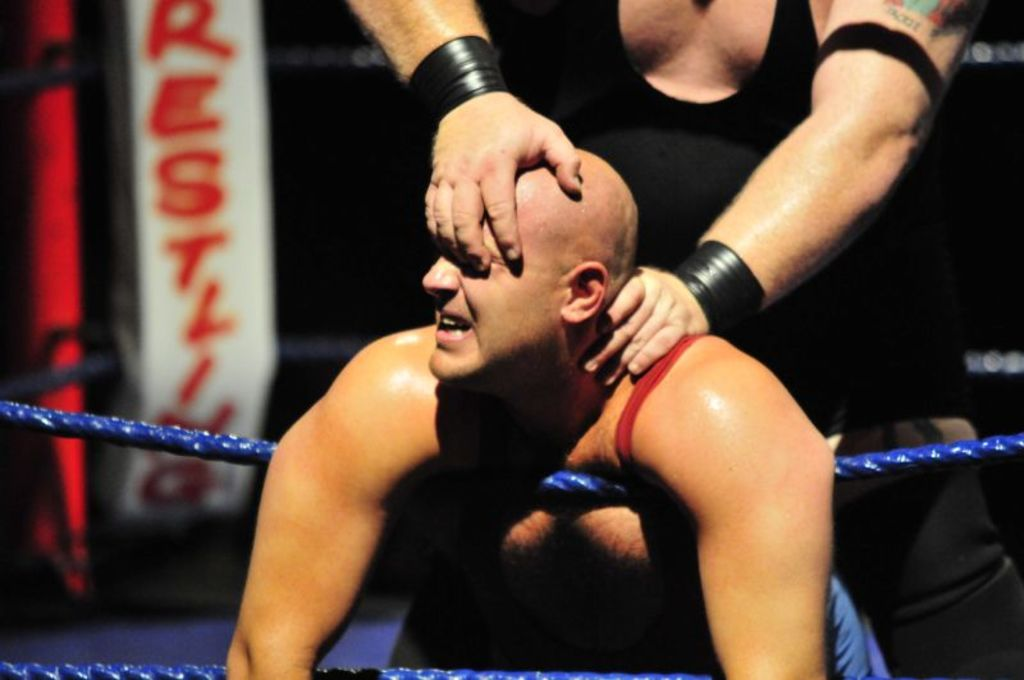Person: (346, 0, 1002, 680), (226, 148, 871, 680)
